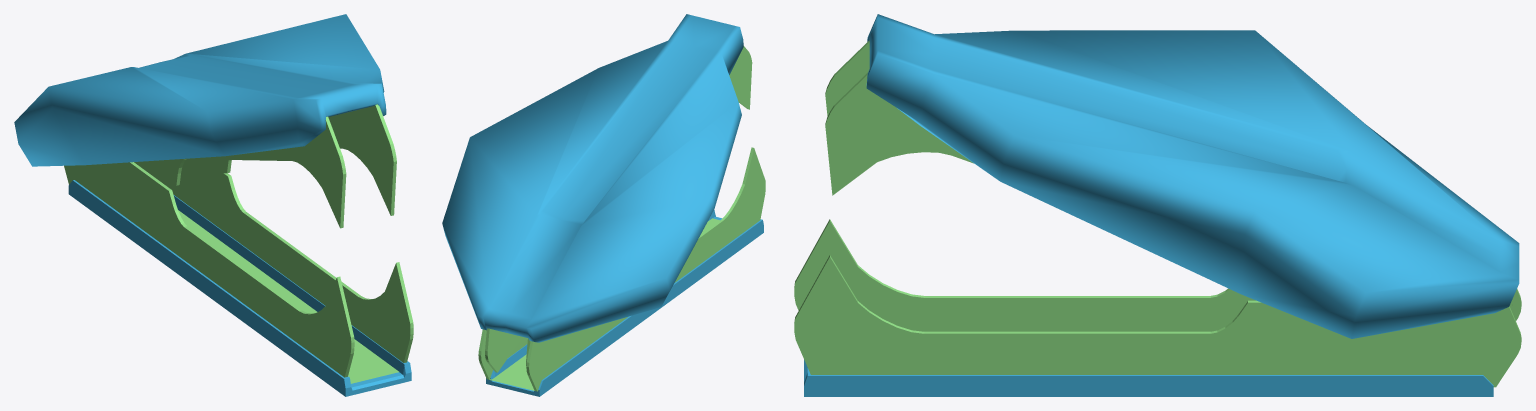
The model's file is StlrRmvr.fbx.
3 views of the same model, side by side, from view 1: azimuth 30°, elevation 25°; view 2: azimuth 150°, elevation 25°; view 3: azimuth 270°, elevation 25° (orthographic). The views are drawn at different scales.
Visible parts, largest first — view 1: Plastic_Top, Teeth_Below, Plastic_Bottom, Teeth_Above; view 2: Plastic_Top, Teeth_Below, Plastic_Bottom, Teeth_Above; view 3: Plastic_Top, Teeth_Below, Plastic_Bottom, Teeth_Above.
Boxes of the visible parts, box(x1,y1,x2,y2) form: Plastic_Top: box(14, 14, 386, 166); Teeth_Below: box(64, 162, 413, 383); Plastic_Bottom: box(68, 180, 411, 396); Teeth_Above: box(134, 104, 396, 228); Plastic_Top: box(442, 14, 743, 342); Teeth_Below: box(478, 147, 765, 391); Plastic_Bottom: box(486, 210, 763, 396); Teeth_Above: box(485, 46, 752, 372); Plastic_Top: box(866, 14, 1519, 338); Teeth_Below: box(794, 219, 1521, 387); Plastic_Bottom: box(804, 359, 1493, 396); Teeth_Above: box(825, 40, 1512, 310).
Size of the model in its own units: 226 by 200 by 384.
